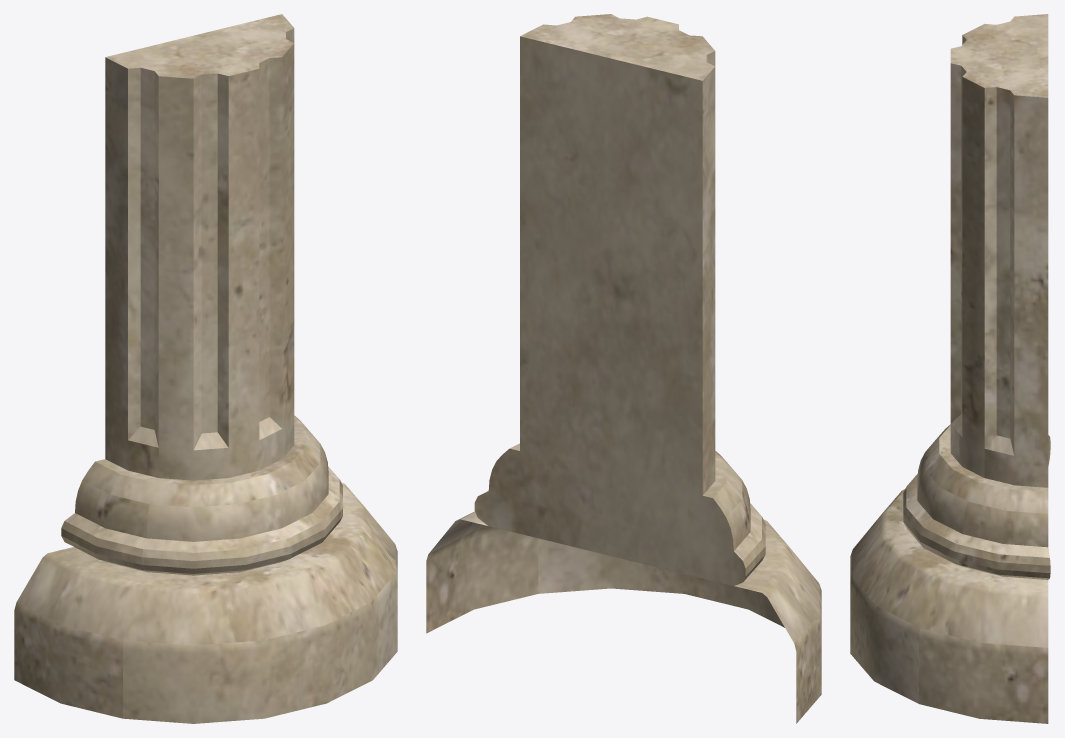
File: column_inner_bottom.FBX
3 renders of one model, left to right at view 1: azimuth 30°, elevation 25°; view 2: azimuth 150°, elevation 25°; view 3: azimuth 270°, elevation 25°, orthographic. The views are drawn at different scales.
Parts seen in each view (by area): view 1: Cylinder001; view 2: Cylinder001; view 3: Cylinder001.
Boxes of the visible parts, box(x1,y1,x2,y2) form: Cylinder001: box(14, 14, 397, 723); Cylinder001: box(426, 14, 821, 723); Cylinder001: box(850, 14, 1050, 723).
Bounding box in the file's own units: 46.82 × 74.96 × 23.32.
